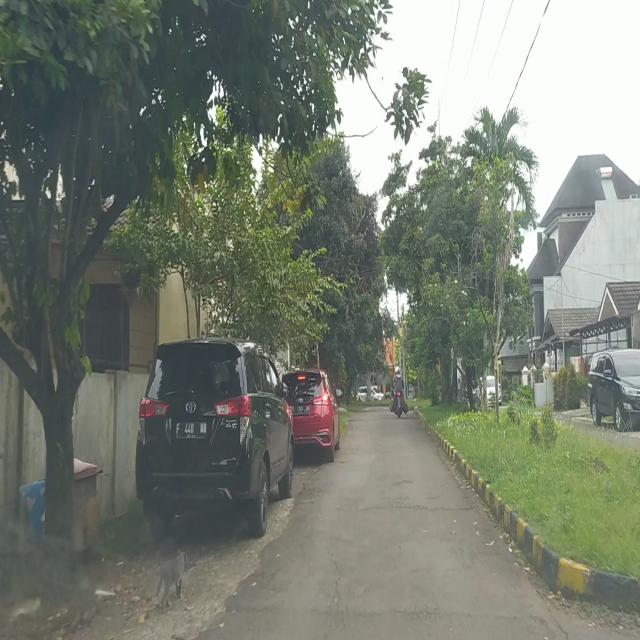Drain Hole: (322, 550, 350, 640), (388, 494, 429, 509)
